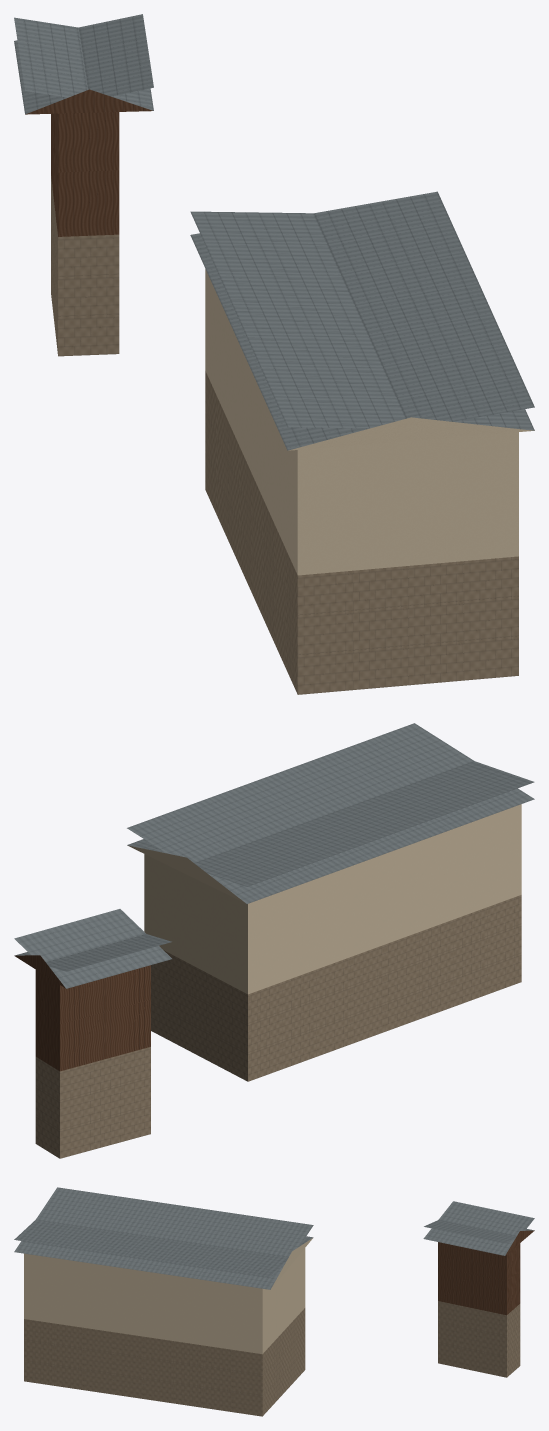
Rendered from bld_c12_29_388.gltf.
3 views of the same model, one above another, from view 1: azimuth 30°, elevation 25°; view 2: azimuth 150°, elevation 25°; view 3: azimuth 270°, elevation 25° (orthographic). The views are drawn at different scales.
Parts seen in each view (by area): view 1: bld_c12_29_388; view 2: bld_c12_29_388; view 3: bld_c12_29_388.
Boxes of the visible parts, x1,y1,x2,y2 form: bld_c12_29_388: (14,14,534,694); bld_c12_29_388: (14,723,534,1158); bld_c12_29_388: (14,1187,534,1416).
Bounding box in the file's own units: 15.83 × 13 × 38.59.
6 materials, 6 textured.
